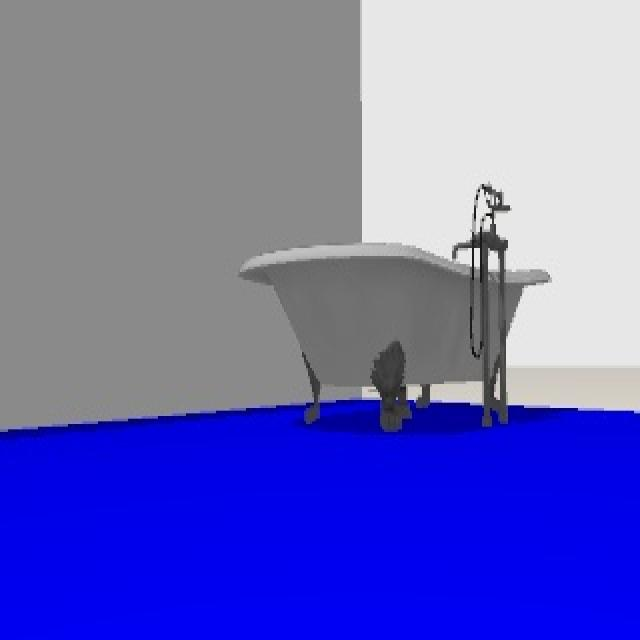bathtub: (241, 178, 552, 432)
